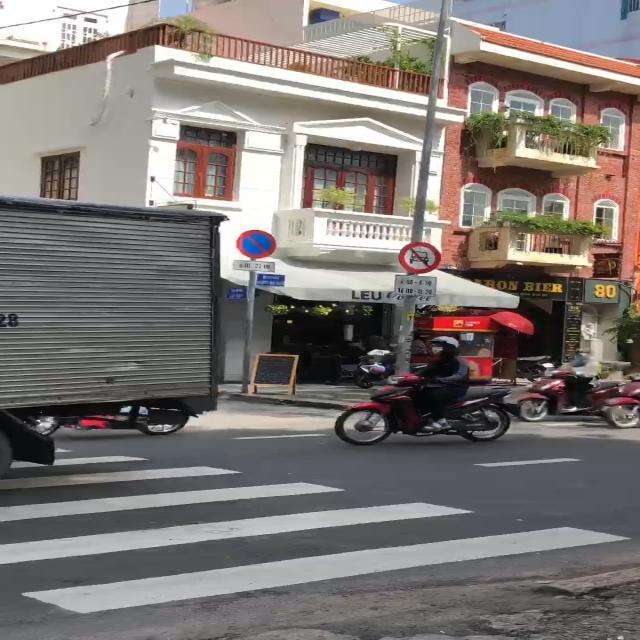Bien bao cam do xe: (233, 229, 282, 260)
Bien bao cam xe oto: (394, 238, 445, 274)
